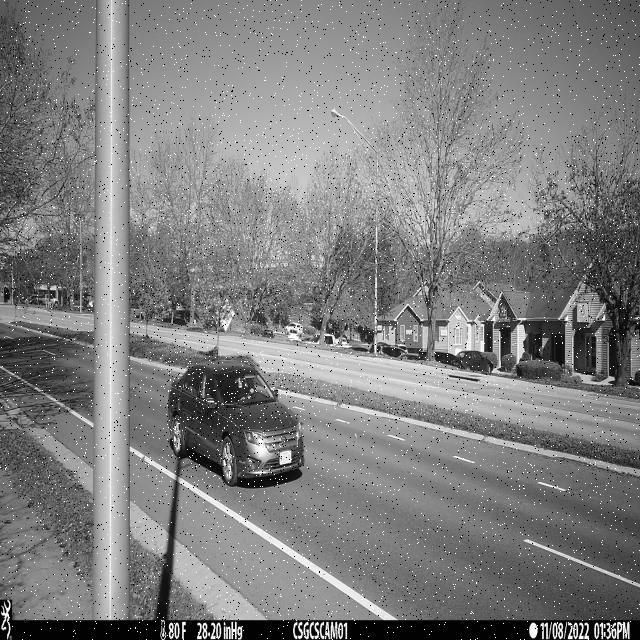Sedan: (167, 360, 304, 487)
